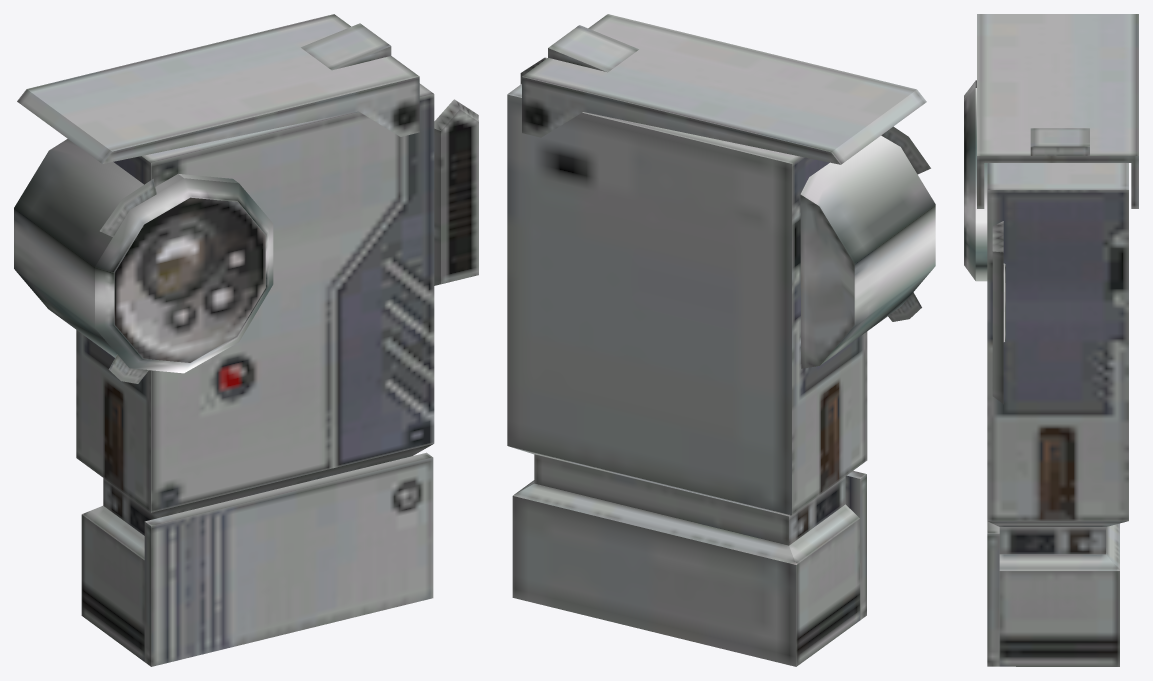
Rendered from thm_prp_camera_l0.fbx.
3 views of the same model, side by side, from view 1: azimuth 30°, elevation 25°; view 2: azimuth 150°, elevation 25°; view 3: azimuth 270°, elevation 25° (orthographic). The views are drawn at different scales.
Parts seen in each view (by area): view 1: mesh_node; view 2: mesh_node; view 3: mesh_node.
Part boxes in pixels (x1=…): mesh_node: x1=14, y1=14, x2=478, y2=666; mesh_node: x1=507, y1=14, x2=935, y2=666; mesh_node: x1=964, y1=14, x2=1138, y2=666.
Bounding box in the file's own units: 0.2114 × 0.2739 × 0.0849.
